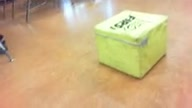cube: (94, 8, 169, 80)
